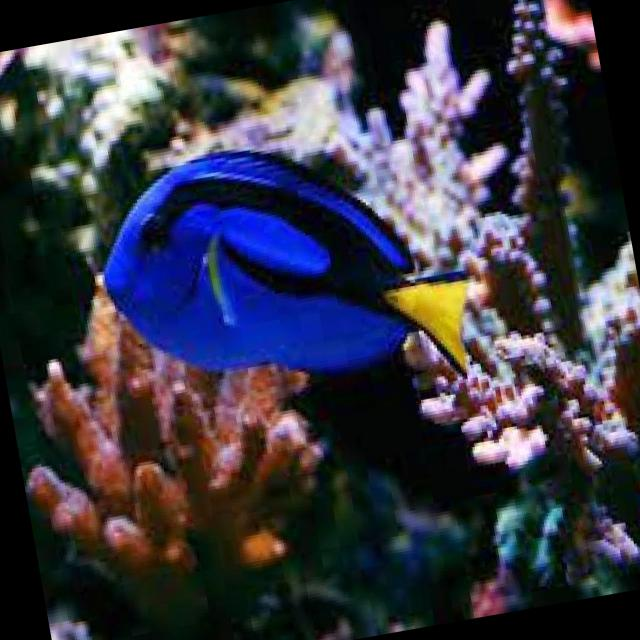TangFish: (82, 107, 489, 444)
